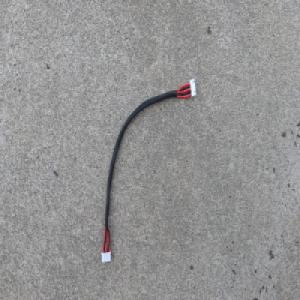Wire: (99, 75, 197, 265)
